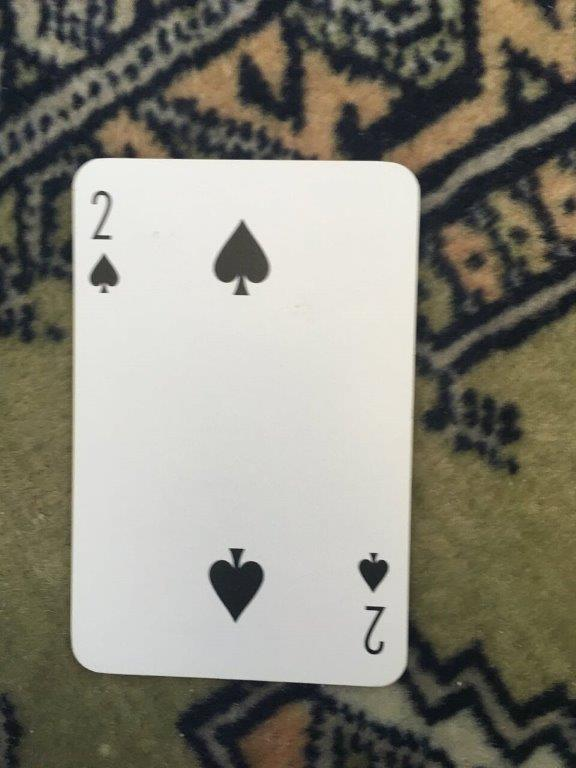2S: (65, 152, 425, 693)
